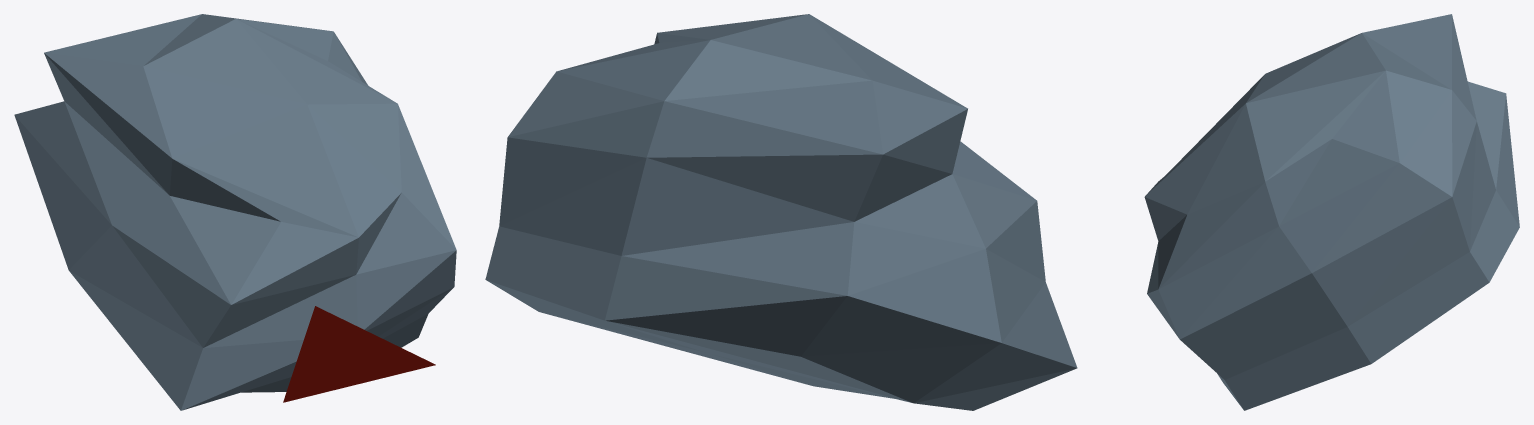
The picture shows the model from 3 angles, left to right: view 1: azimuth 30°, elevation 25°; view 2: azimuth 150°, elevation 25°; view 3: azimuth 270°, elevation 25°; orthographic projection. The views are drawn at different scales.
Bounding box in the file's own units: 0.3051 × 0.2804 × 0.3413.
Materials: 2 (2 with a texture image).
